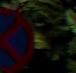No Stopping: (0, 0, 47, 71)
